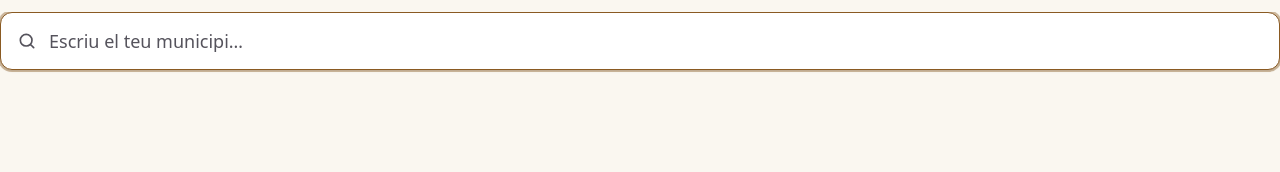
Scenario: MunicipalitySearch › shows only the catalan name and province in catalan
Type "san sebastian" into the dropdown at coordinates (656, 41), box left=49, top=13, right=1263, bottom=69
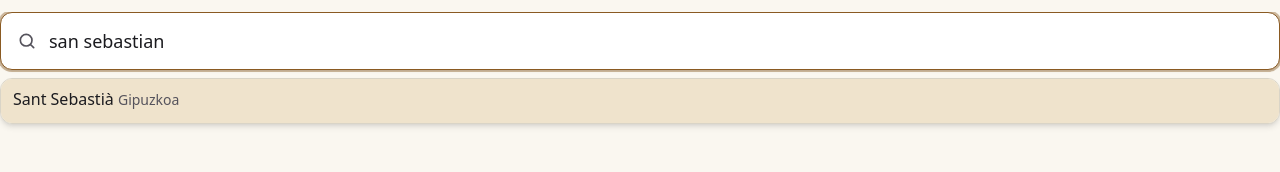
Expected: the option does not show "San Sebastián", left=1, top=79, right=1279, bottom=123
Expected: the option shows "Sant Sebastià", left=1, top=79, right=1279, bottom=123
